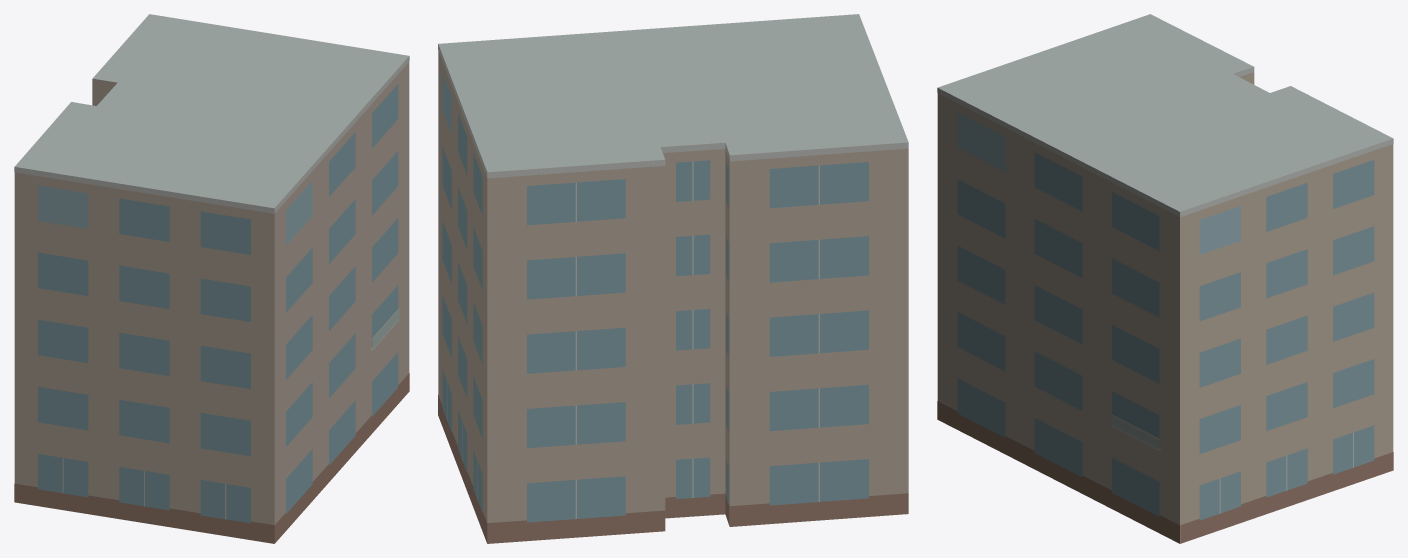
File: survey-upis-32866286.glb
The picture shows the model from 3 angles, left to right: view 1: azimuth 30°, elevation 25°; view 2: azimuth 150°, elevation 25°; view 3: azimuth 270°, elevation 25°; orthographic projection. The views are drawn at different scales.
Parts seen in each view (by area): view 1: survey-upis-32866286.tmp; view 2: survey-upis-32866286.tmp; view 3: survey-upis-32866286.tmp.
Boxes of the visible parts, x1,y1,x2,y2 form: survey-upis-32866286.tmp: (14, 14, 409, 543); survey-upis-32866286.tmp: (438, 14, 908, 543); survey-upis-32866286.tmp: (937, 14, 1393, 543).
Size of the model in its own units: 19.06 by 14.9 by 18.56.
